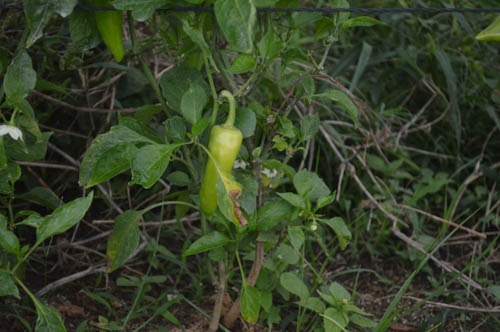ChiliPepper: (197, 116, 246, 226), (85, 2, 135, 67)
